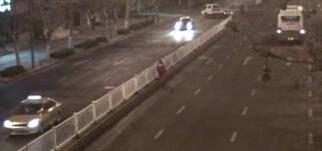bus: (276, 3, 306, 43)
car: (3, 91, 64, 136), (199, 2, 225, 20), (173, 14, 195, 35)
